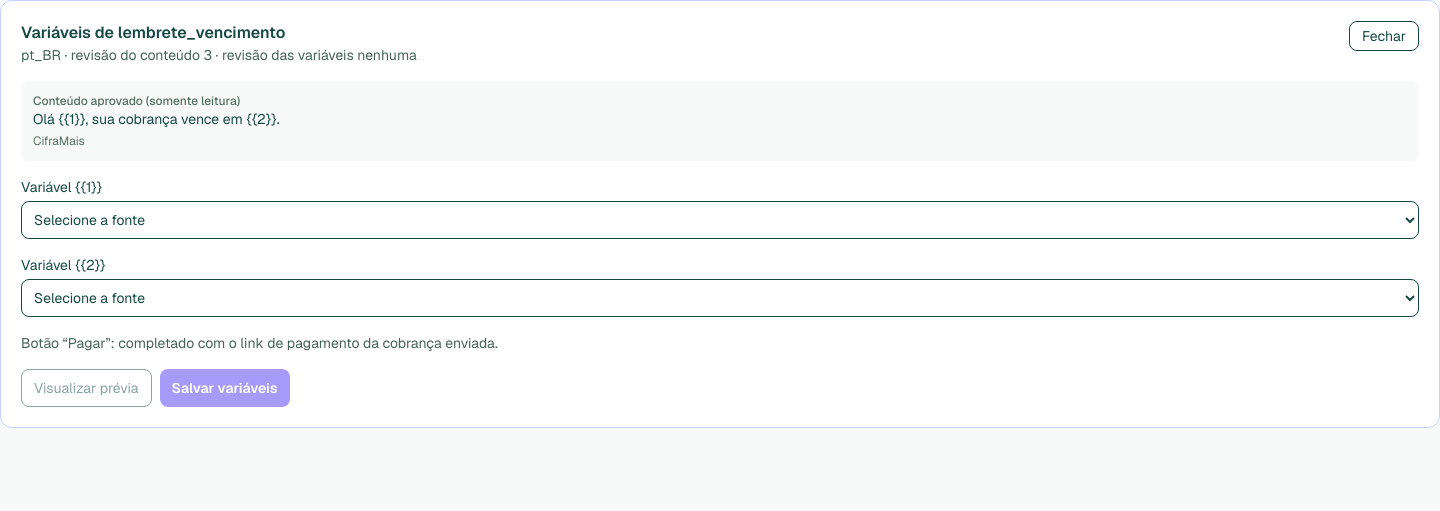
Test case: TemplateMappingEditor › saves against the loaded revisions
This screenshot has width=1440, height=511.
Select "Nome do devedor" in the dropdown labelled "Variável {{1}}": (720, 220) [21,201,1419,239]
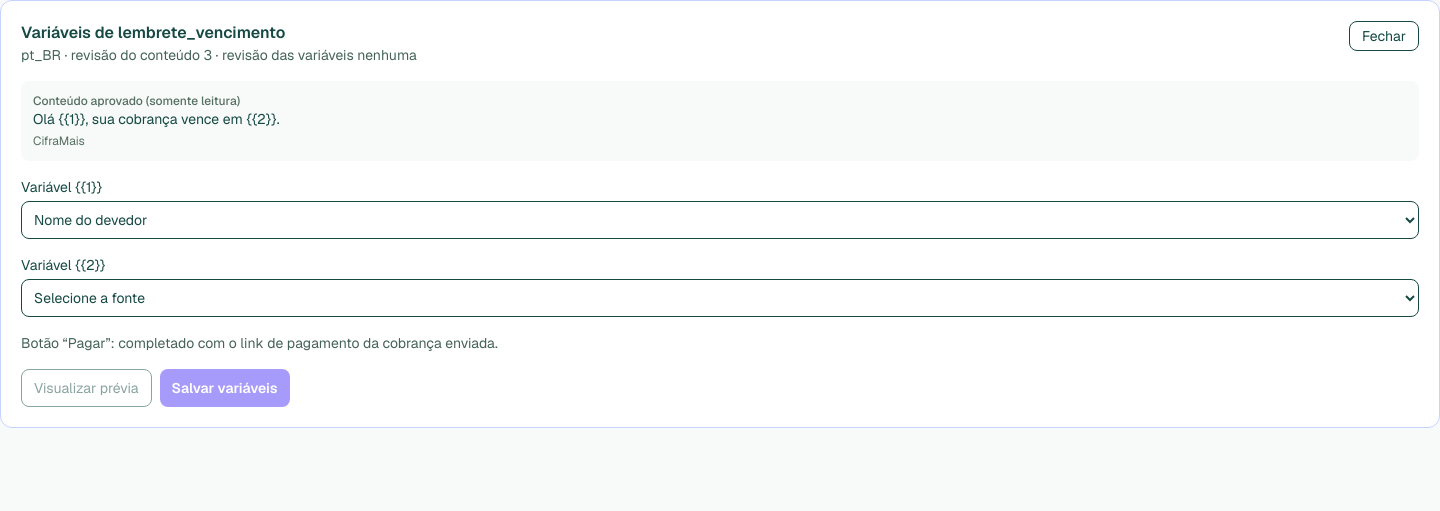
Select "Texto fixo" in the dropdown labelled "Variável {{2}}": (720, 298) [21,279,1419,317]
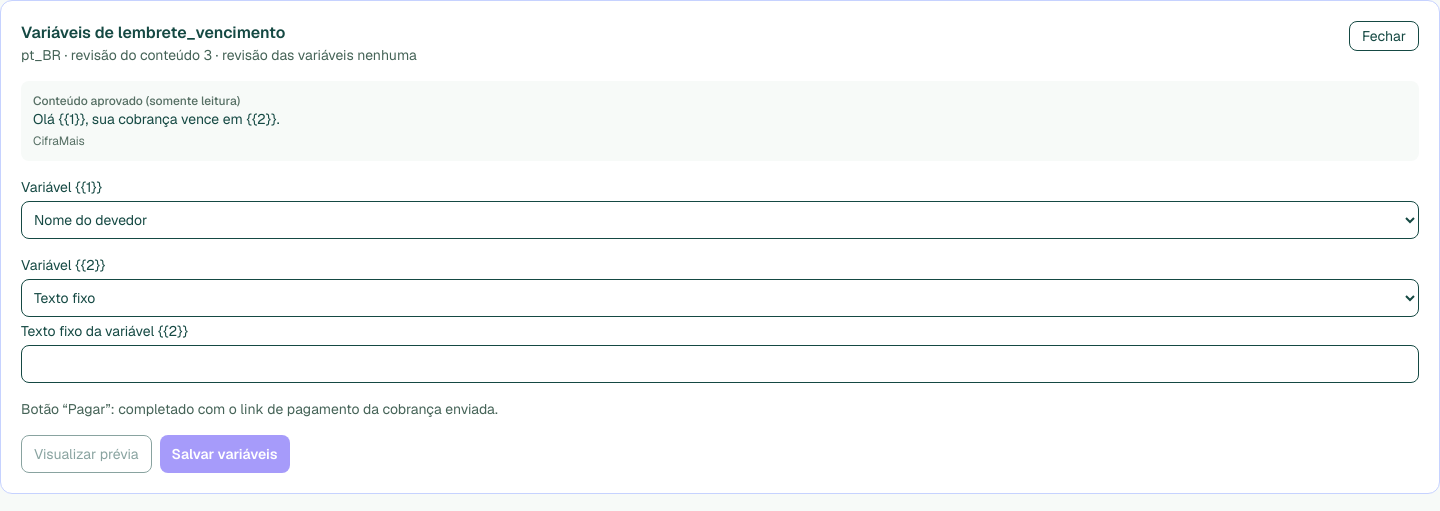
In the field labelled "Texto fixo da variável {{2}}": (720, 364) [21,345,1419,383], type "breve"
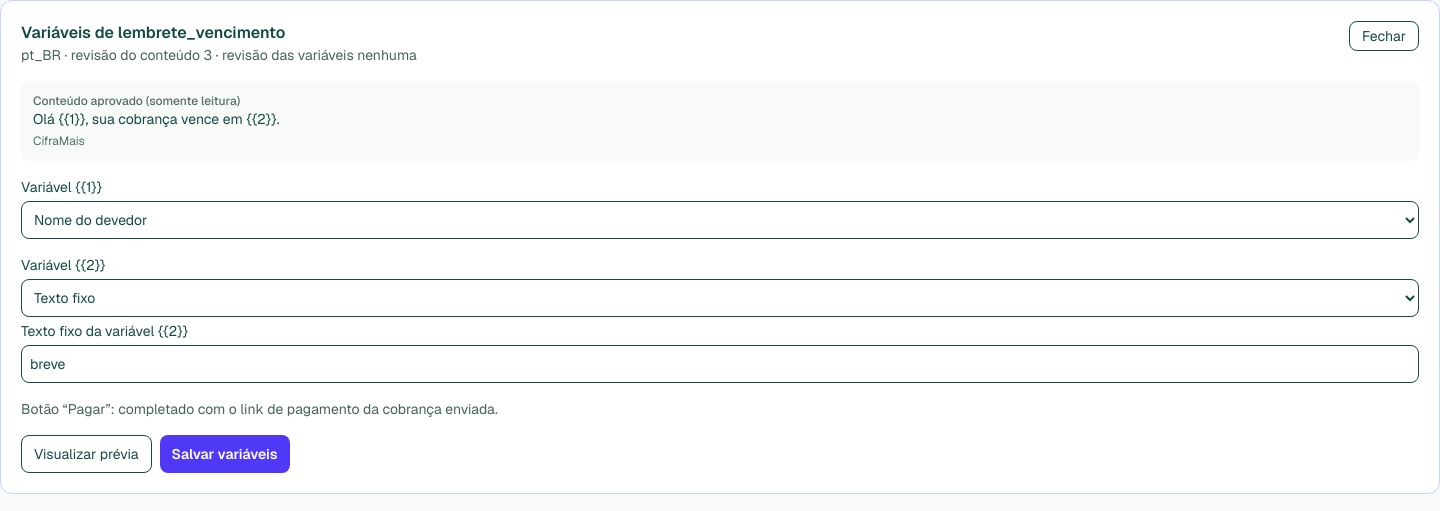
Click the button "Salvar variáveis": (224, 454) [160,435,290,473]
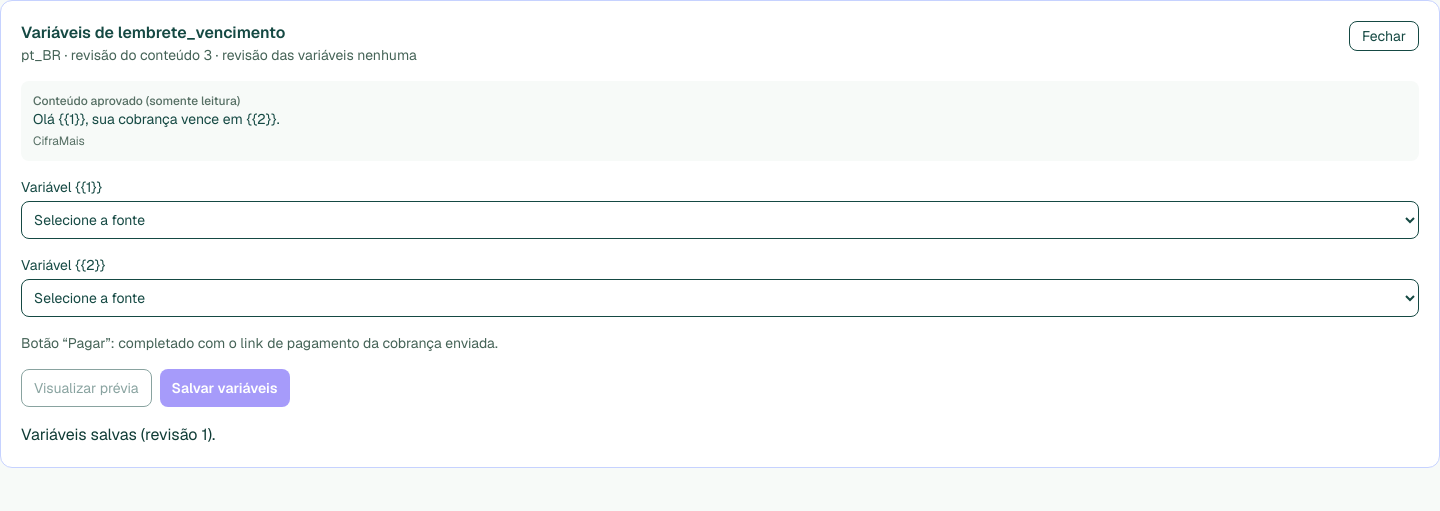
Result: the message shows "revisão 1" at [21,424,215,445]
